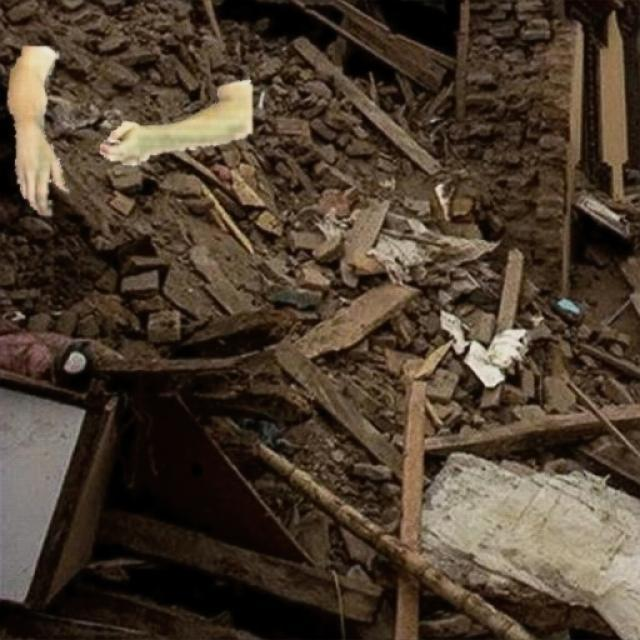Person in Rubble: (8, 46, 252, 215)
